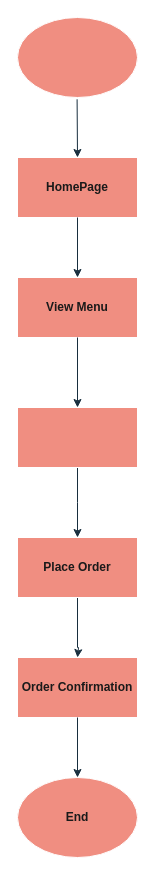
The diagram is 155 pixels wide and 875 high, and some of its shapes have lost their labels. Each missing label, with the box of its shape:
Select Food Item: (16, 406, 138, 468)
Start: (16, 16, 138, 98)
